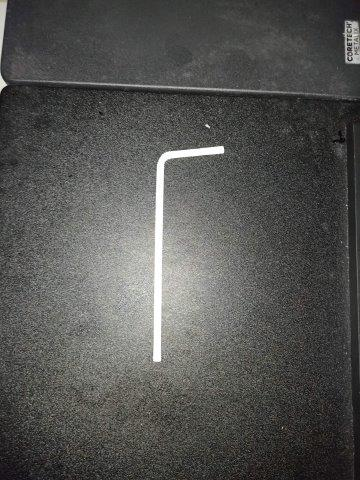sedotan: (153, 146, 224, 361)
